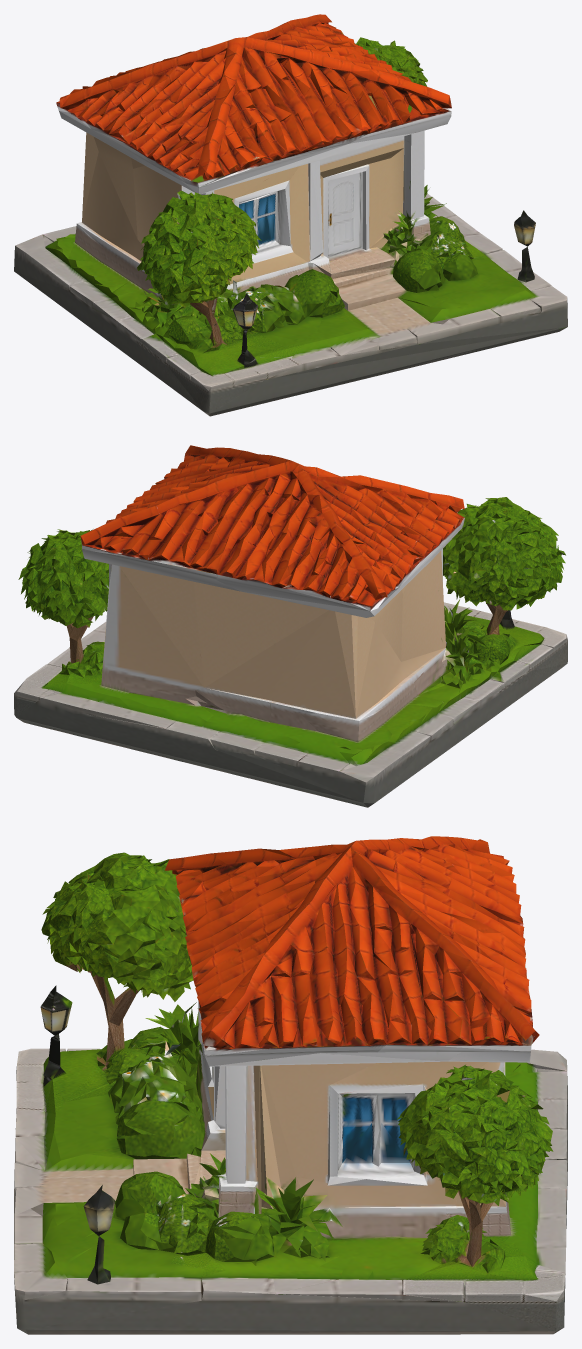
File: level-1-source.glb
The picture shows the model from 3 angles, top to bottom: view 1: azimuth 30°, elevation 25°; view 2: azimuth 150°, elevation 25°; view 3: azimuth 270°, elevation 25°; orthographic projection. The views are drawn at different scales.
Visible parts, largest first — view 1: Mesh_0; view 2: Mesh_0; view 3: Mesh_0.
Part boxes in pixels (<box>): Mesh_0: <box>14,14,567,416</box>; Mesh_0: <box>14,445,567,807</box>; Mesh_0: <box>14,836,567,1334</box>.
Bounding box in the file's own units: 1.9 × 1.16 × 1.64.
Materials: 1 (1 with a texture image).
